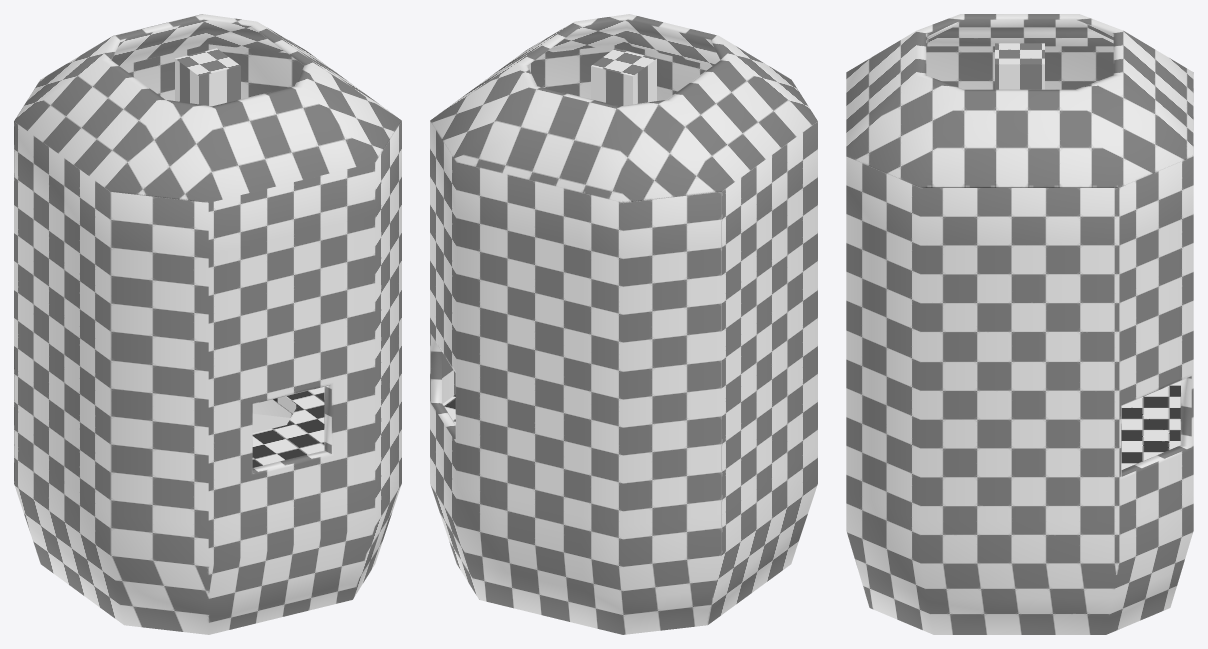
The model's file is Siilo.glb.
3 renders of one model, left to right at view 1: azimuth 30°, elevation 25°; view 2: azimuth 150°, elevation 25°; view 3: azimuth 270°, elevation 25°, orthographic. The views are drawn at different scales.
Visible parts, largest first — view 1: Cube, Cube.008; view 2: Cube; view 3: Cube, Cube.008.
Boxes of the visible parts, x1=… form: Cube: x1=14, y1=14, x2=401, y2=634; Cube.008: x1=252, y1=387, x2=324, y2=467; Cube: x1=430, y1=14, x2=817, y2=634; Cube: x1=846, y1=14, x2=1193, y2=634; Cube.008: x1=1121, y1=381, x2=1180, y2=469.
Size of the model in its own units: 13.89 by 22.87 by 13.89.
Materials: 2 (2 with a texture image).
